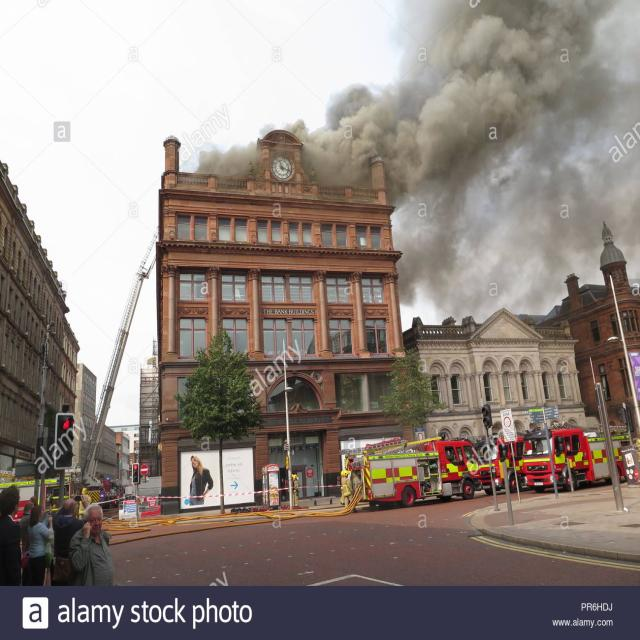smoke: (393, 2, 640, 286), (201, 90, 388, 178)
